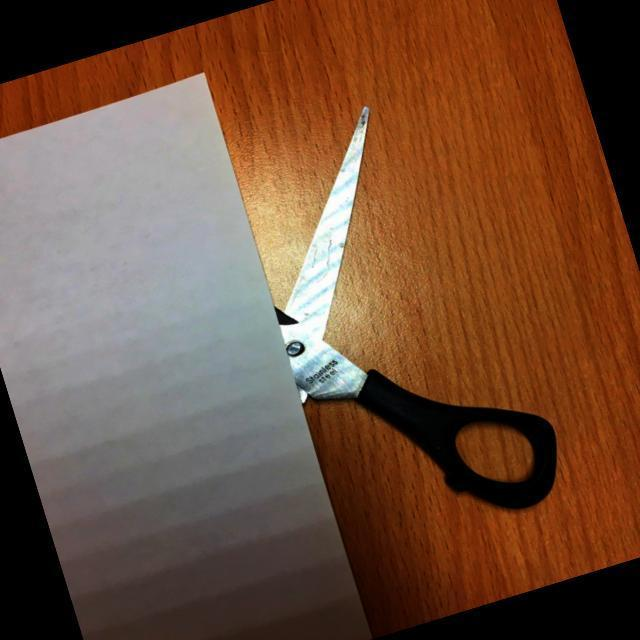scissors: (229, 79, 575, 562)
